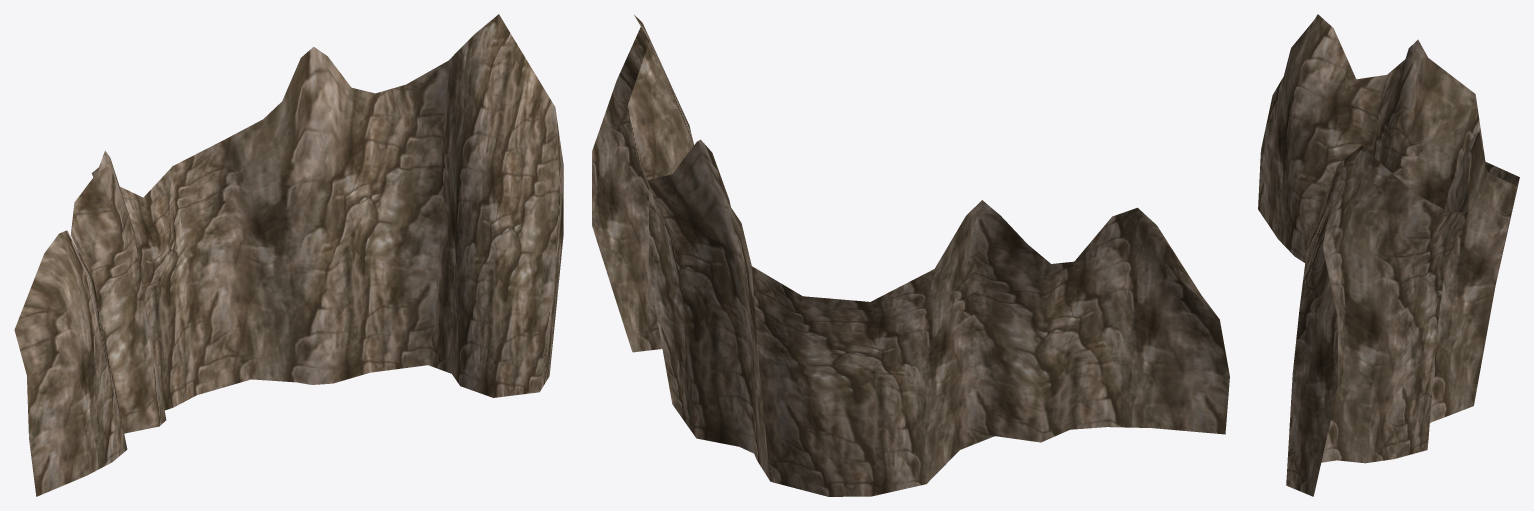
Rendered from OVERHILL_A_01_MOUNTAIN_BACKDROP_01.fbx.
3 renders of one model, left to right at view 1: azimuth 30°, elevation 25°; view 2: azimuth 150°, elevation 25°; view 3: azimuth 270°, elevation 25°, orthographic. The views are drawn at different scales.
Visible parts, largest first — view 1: OVERHILL_A_01_MOUNTAIN_BACKDROP_01; view 2: OVERHILL_A_01_MOUNTAIN_BACKDROP_01; view 3: OVERHILL_A_01_MOUNTAIN_BACKDROP_01.
Part boxes in pixels (x1,y1,x2,y2): OVERHILL_A_01_MOUNTAIN_BACKDROP_01: [14, 14, 563, 496]; OVERHILL_A_01_MOUNTAIN_BACKDROP_01: [592, 15, 1229, 496]; OVERHILL_A_01_MOUNTAIN_BACKDROP_01: [1258, 14, 1519, 496].
Size of the model in its own units: 314048 by 189837 by 128030.
Materials: 1 (1 with a texture image).
